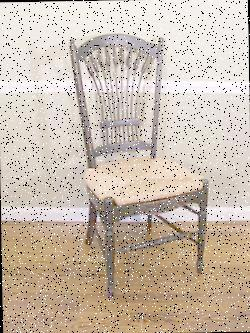Silla: (65, 28, 210, 296)
